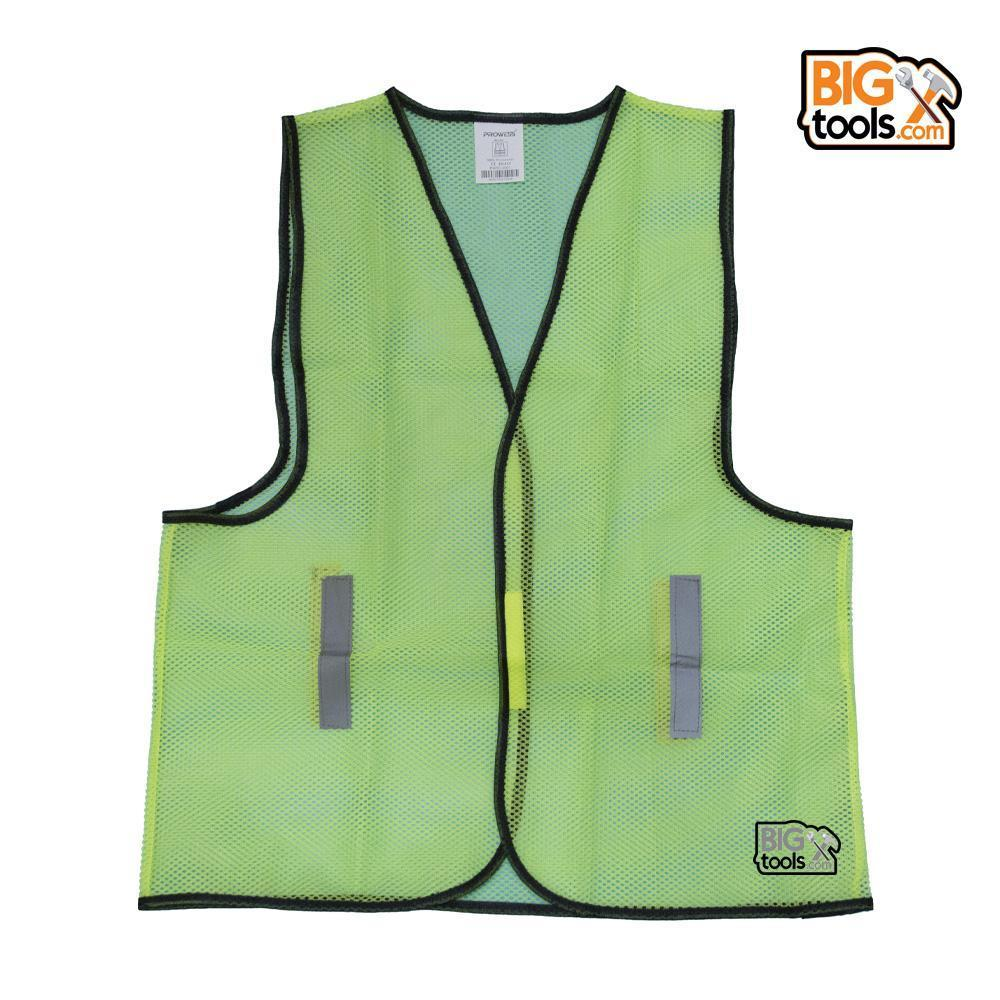vest: (142, 82, 879, 921)
